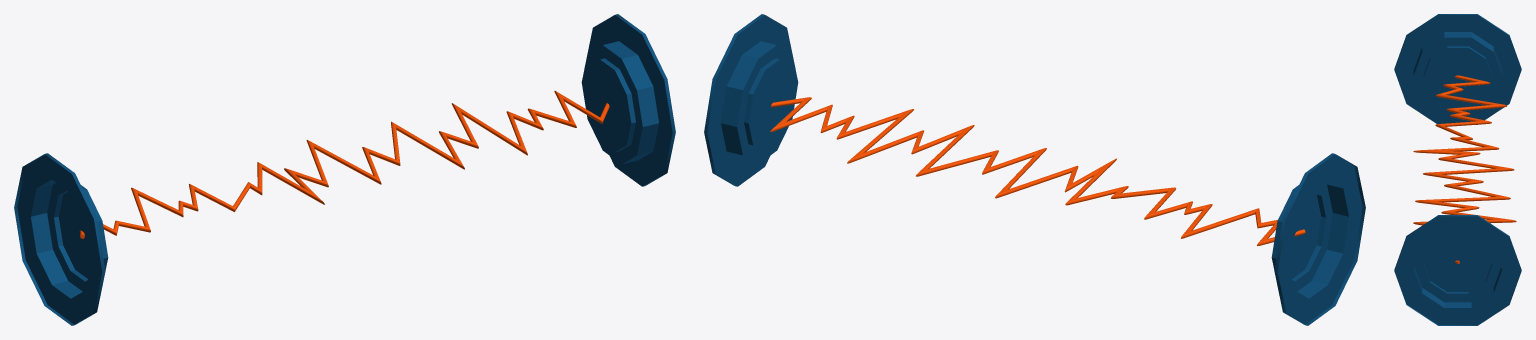
The model's file is electrocutador.FBX.
3 views of the same model, side by side, from view 1: azimuth 30°, elevation 25°; view 2: azimuth 150°, elevation 25°; view 3: azimuth 270°, elevation 25° (orthographic). The views are drawn at different scales.
Visible parts, largest first — view 1: electrocutador; view 2: electrocutador; view 3: electrocutador.
Boxes of the visible parts, bbox=[...] form: electrocutador: bbox=[14, 14, 675, 325]; electrocutador: bbox=[704, 14, 1365, 325]; electrocutador: bbox=[1394, 14, 1521, 325].
Size of the model in its own units: 3 by 0.7608 by 0.8.
